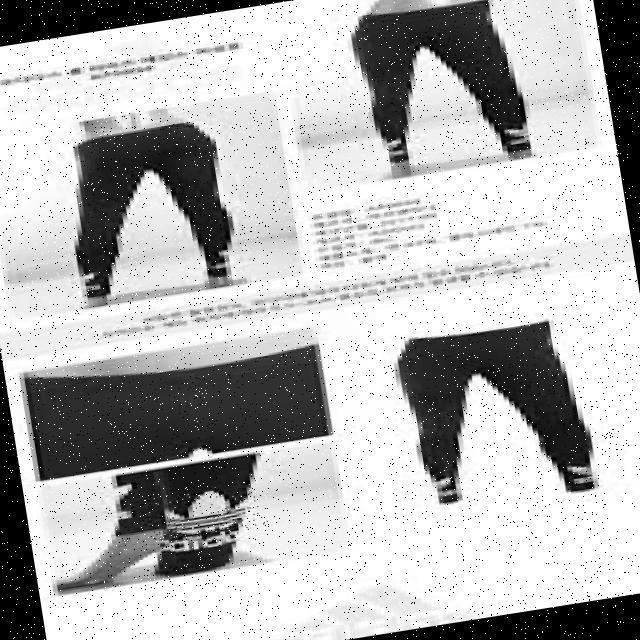Adidas: (144, 479, 273, 548)
